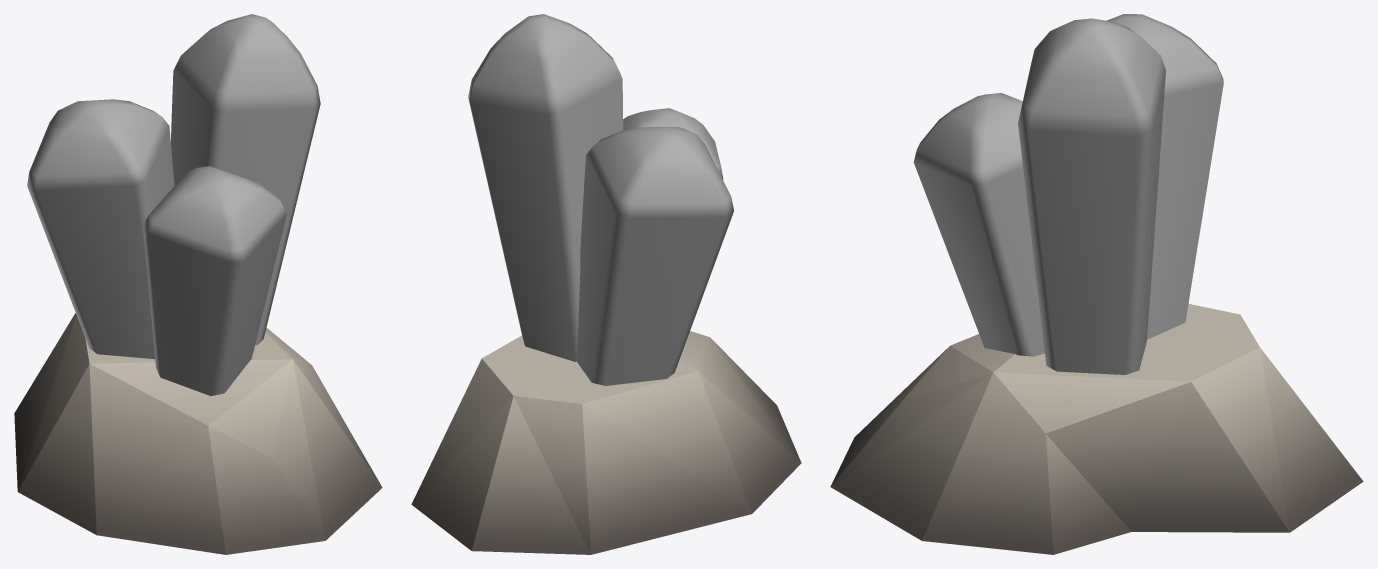
The model's file is SM_Crystal_Node_2.fbx.
The picture shows the model from 3 angles, left to right: view 1: azimuth 30°, elevation 25°; view 2: azimuth 150°, elevation 25°; view 3: azimuth 270°, elevation 25°; orthographic projection. The views are drawn at different scales.
Visible parts, largest first — view 1: Crystal_Node_2; view 2: Crystal_Node_2; view 3: Crystal_Node_2.
Boxes of the visible parts, x1,y1,x2,y2 form: Crystal_Node_2: [14, 14, 382, 554]; Crystal_Node_2: [411, 14, 801, 554]; Crystal_Node_2: [830, 14, 1363, 554].
Size of the model in its own units: 179 by 242 by 239.
2 materials, 1 textured.
